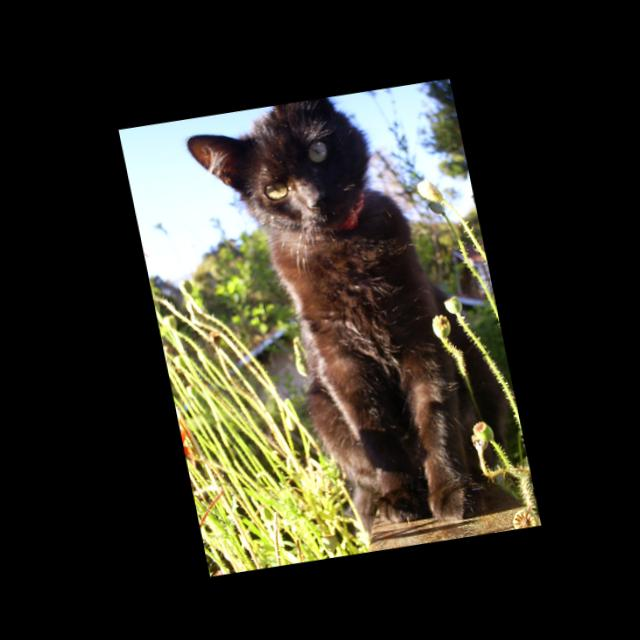animals: (182, 93, 350, 229)
